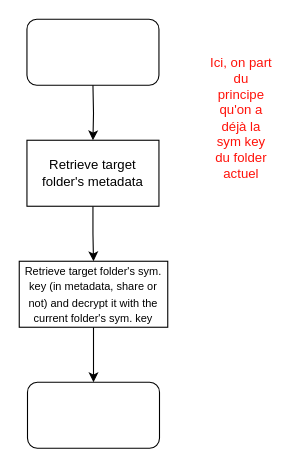
Image size: 294x468. Some labels were removed from this diagram. Here are the shapes that lost their labels. From the top down, the centre of each, then its label:
At point (92, 51): "User selects a folder to retrieve".
At point (93, 414): "User can read and retrieve all the content from the folder".
